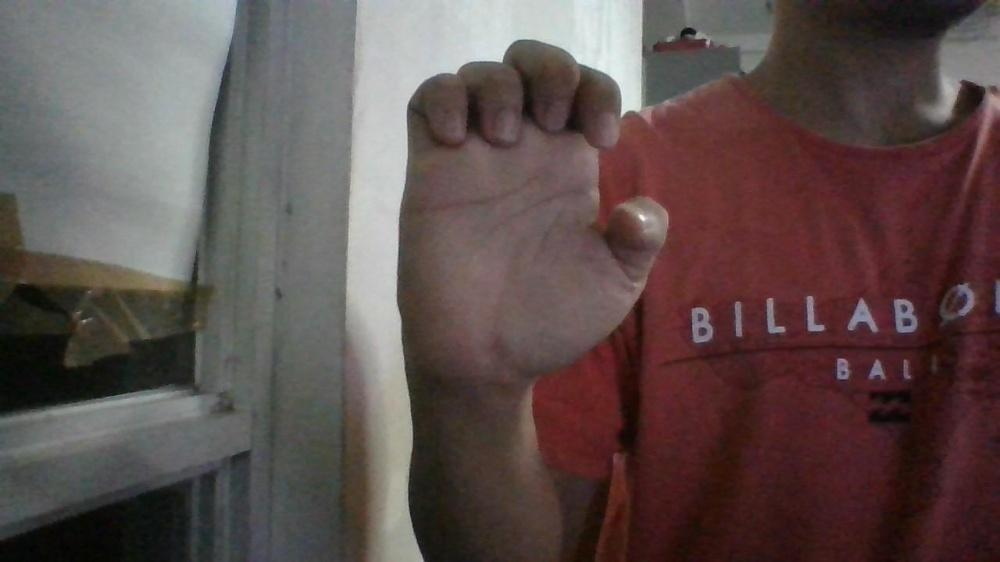e: (394, 37, 670, 386)
